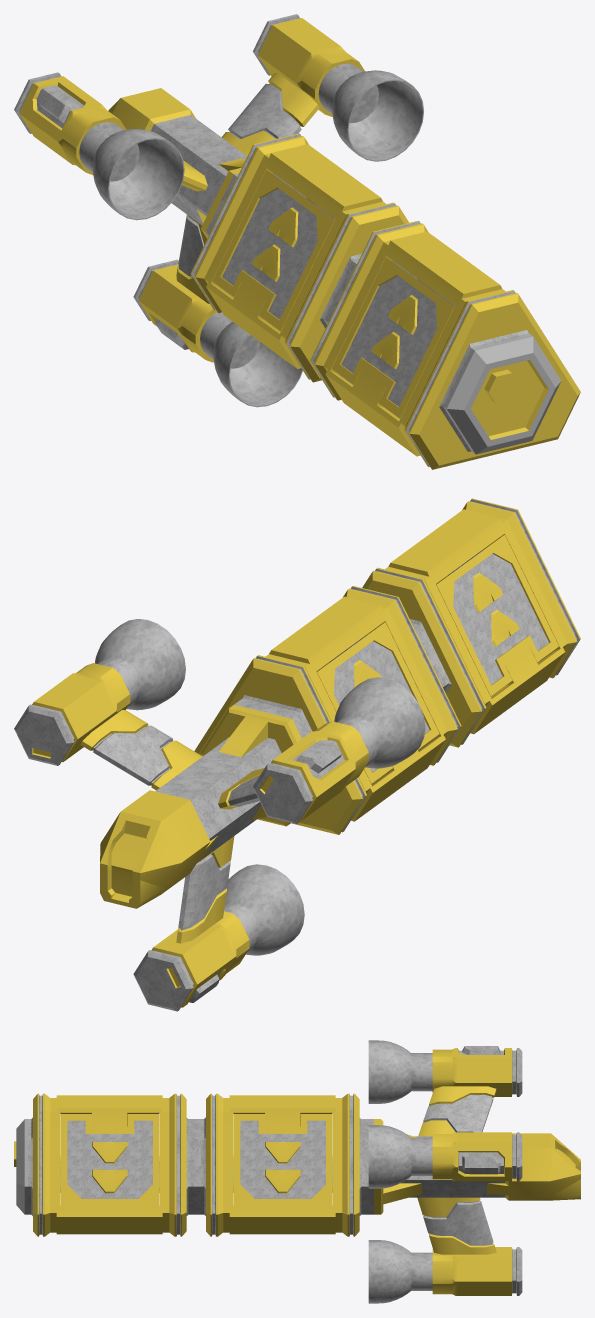
File: Transporter_corvette.fbx
3 renders of one model, top to bottom at view 1: azimuth 30°, elevation 25°; view 2: azimuth 150°, elevation 25°; view 3: azimuth 270°, elevation 25°, orthographic. The views are drawn at different scales.
Visible parts, largest first — view 1: Cargo.001, Cargo, Cargo.005, Cargo.002, Cargo.008, Engine, Cube.036, Cube.035, Main_engine_bridge, Engine.001, Engine.002, Cube.037; view 2: Cargo.001, Cargo, Main_engine_bridge, Engine, Cargo.002, Engine.002, Engine.001, Cube.035, Cube.036, Cube.037, Cargo.005; view 3: Cargo.001, Cargo, Cargo.004, Cargo.007, Engine.002, Engine.001, Main_engine_bridge, Engine, Cube.036, Cube.035, Cube.037, Cargo.008.
Boxes of the visible parts, x1,y1,x2,y2 form: Cargo.001: (310,220,580,469); Cargo: (190,133,425,382); Cargo.005: (212,169,334,331); Cargo.002: (331,257,454,418); Cargo.008: (444,335,561,454); Engine: (221,14,364,155); Cube.036: (318,63,423,161); Cube.035: (79,122,184,220); Main_engine_bridge: (108,88,306,238); Engine.001: (14,72,207,191); Engine.002: (133,215,216,362); Cube.037: (200,312,302,407); Cargo.001: (339,498,580,747); Cargo: (194,586,461,834); Main_engine_bridge: (100,705,301,908); Engine: (14,663,202,790); Cargo.002: (436,535,558,696); Engine.002: (133,836,249,1011); Engine.001: (218,721,368,824); Cube.035: (334,677,425,768); Cube.036: (95,619,185,710); Cube.037: (224,864,304,955); Cargo.005: (317,622,439,783); Cargo.001: (28,1093,200,1236); Cargo: (201,1093,373,1236); Cargo.004: (60,1114,159,1204); Cargo.007: (233,1114,332,1204); Engine.002: (417,1197,522,1295); Engine.001: (418,1046,522,1136); Main_engine_bridge: (374,1119,580,1214); Engine: (432,1132,522,1181); Cube.036: (368,1125,432,1188); Cube.035: (368,1040,432,1103); Cube.037: (368,1240,432,1303); Cargo.008: (14,1119,27,1214).
Bounding box in the file's own units: 2063 × 1851 × 4426.
